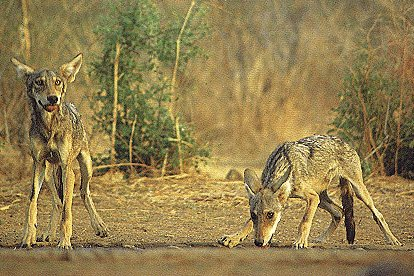dog: (223, 128, 402, 254), (15, 48, 98, 247)
